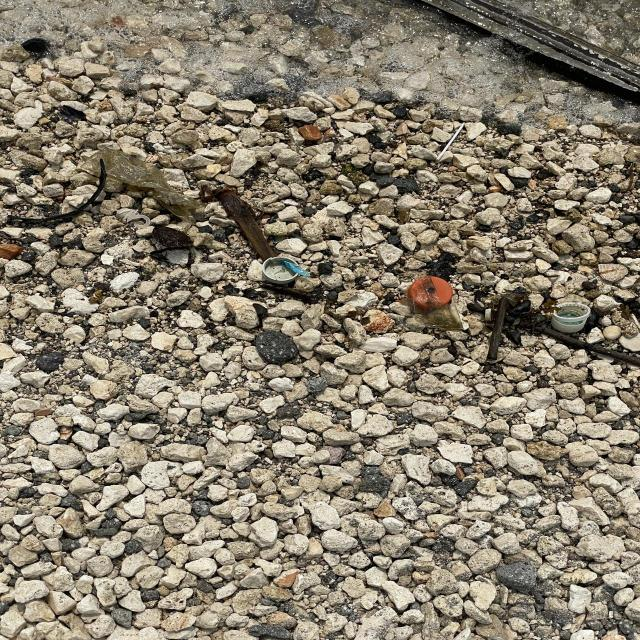plastic_waste: (408, 276, 454, 312), (434, 121, 470, 162), (550, 303, 592, 335), (262, 256, 300, 286)
